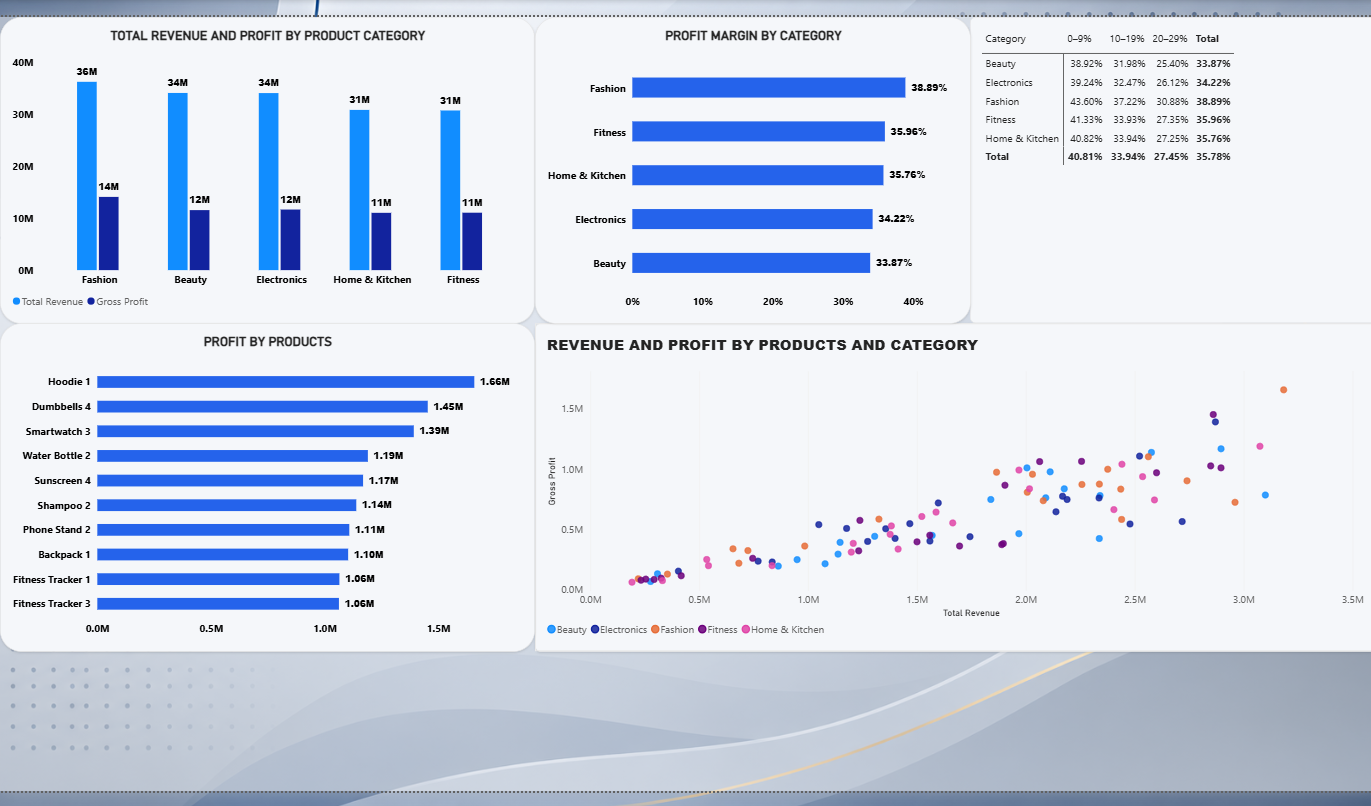

The page's visual inventory and layout, read from the dashboard file:
{"tool":"powerbi","page":{"name":"Page 5","canvas":[1920,1080],"ordinal":4},"visuals":[{"type":"scatterChart","title":"REVENUE AND PROFIT BY PRODUCTS AND CATEGORY","fields":{"Category":["Products.Product_Name"],"Series":["Products.Category"],"X":["Customer_Summary.Total Revenue"],"Y":["Customer_Summary.Gross Profit"]},"box":[746,428,1174,458],"z":0},{"type":"pivotTable","fields":{"Columns":["Order_Items.Discount Band"],"Rows":["Products.Category"],"Values":["Customer_Summary.profit margin"]},"box":[1354,0,566,240],"z":1},{"type":"clusteredColumnChart","title":"TOTAL REVENUE AND PROFIT BY PRODUCT CATEGORY","fields":{"Category":["Products.Category"],"Y":["Customer_Summary.Total Revenue","Customer_Summary.Gross Profit"]},"box":[0,0,746,428],"z":2},{"type":"clusteredBarChart","title":"PROFIT BY PRODUCTS","fields":{"Category":["Products.Product_Name"],"Y":["Customer_Summary.Gross Profit"]},"box":[0,428,746,458],"z":4},{"type":"clusteredBarChart","title":"PROFIT MARGIN BY CATEGORY","fields":{"Category":["Products.Category"],"Y":["Customer_Summary.profit margin"]},"box":[746,0,608,428],"z":5}]}

Visuals, with their boxes on the page's 1920x1080 design canvas (x1, y1, x2, y2). These are canvas units, not pixel positions in the 1371x806 screenshot, which may show the page scaled, cropped or inside an application window:
"REVENUE AND PROFIT BY PRODUCTS AND CATEGORY" scatterChart: select_region(746, 428, 1920, 886)
pivotTable - Order_Items.Discount Band x Products.Category: select_region(1354, 0, 1920, 240)
"TOTAL REVENUE AND PROFIT BY PRODUCT CATEGORY" clusteredColumnChart: select_region(0, 0, 746, 428)
"PROFIT BY PRODUCTS" clusteredBarChart: select_region(0, 428, 746, 886)
"PROFIT MARGIN BY CATEGORY" clusteredBarChart: select_region(746, 0, 1354, 428)
